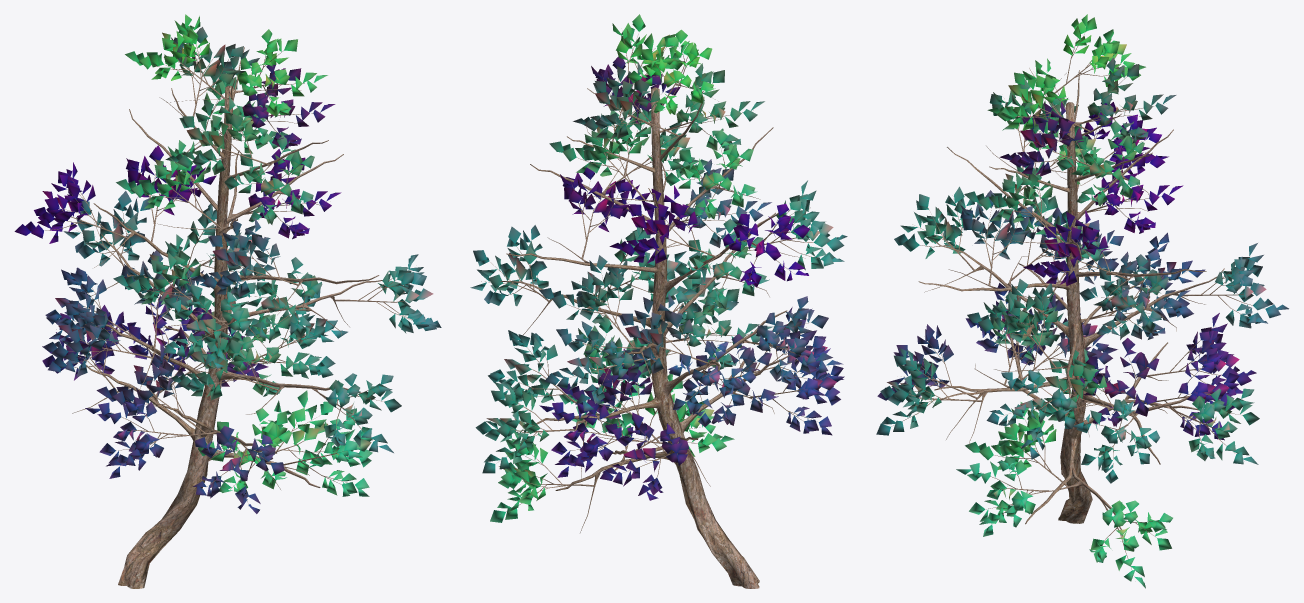
Rendered from DM.Tree.Maple.09.fbx.
The picture shows the model from 3 angles, left to right: view 1: azimuth 30°, elevation 25°; view 2: azimuth 150°, elevation 25°; view 3: azimuth 270°, elevation 25°; orthographic projection. The views are drawn at different scales.
Visible parts, largest first — view 1: Tree_1, Tree_0; view 2: Tree_1, Tree_0; view 3: Tree_1, Tree_0.
Boxes of the visible parts, box(x1,y1,x2,y2) form: Tree_1: box(14, 14, 441, 513); Tree_0: box(31, 29, 415, 588); Tree_1: box(470, 14, 847, 522); Tree_0: box(481, 34, 828, 588); Tree_1: box(876, 14, 1288, 588); Tree_0: box(891, 34, 1264, 569).
Bounding box in the file's own units: 365 × 506 × 356.
Materials: 1 (1 with a texture image).
